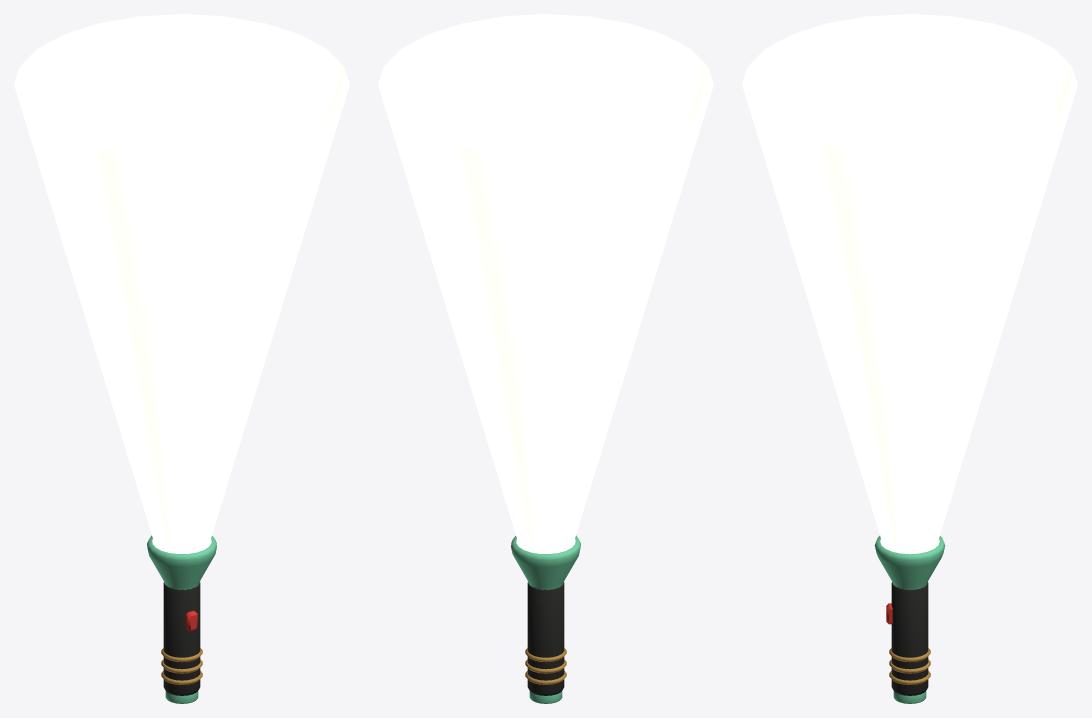
Rendered from flashlight.glb.
3 views of the same model, side by side, from view 1: azimuth 30°, elevation 25°; view 2: azimuth 150°, elevation 25°; view 3: azimuth 270°, elevation 25° (orthographic).
Visible parts, largest first — view 1: beam, flashlight; view 2: beam, flashlight; view 3: beam, flashlight.
Part boxes in pixels (box(x1,y1,x2,y2)): beam: box(14, 14, 349, 551); flashlight: box(147, 535, 216, 703); beam: box(378, 14, 713, 551); flashlight: box(511, 535, 580, 703); beam: box(742, 14, 1077, 551); flashlight: box(874, 536, 945, 703).
Bounding box in the file's own units: 0.4 × 0.805 × 0.4.
